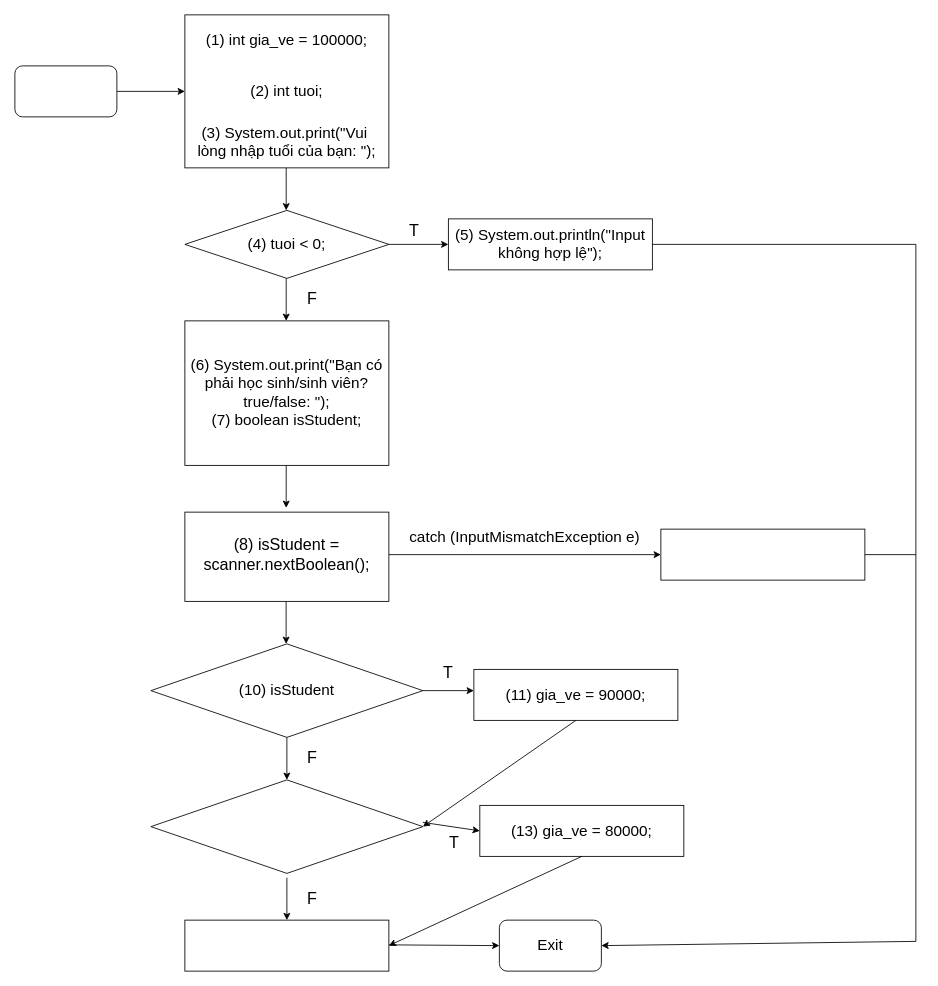
The diagram is 938 pixels wide and 986 high, and some of its shapes have lost their labels. Each missing label, with the centre of its shape:
(12) tuoi < 12 || tuoi >= 60;: (286,826)
(14) System.out.println("Giá vé bạn phải trả là: "+gia_ve);: (286,945)
(9) System.out.println("Input không hợp lệ");: (762,554)
Entry: (65,91)
